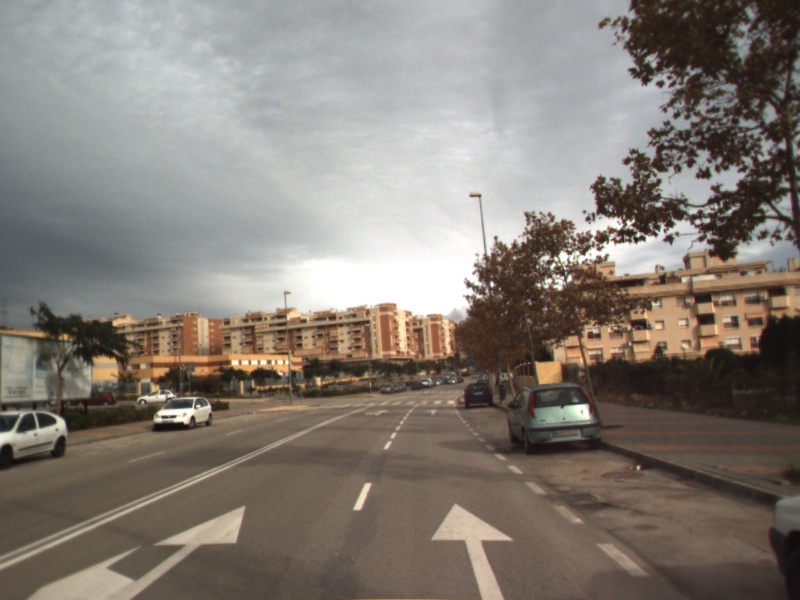STRAIGHT: (427, 499, 518, 600), (424, 407, 442, 417)
STRAIGHT_LEFT: (22, 502, 248, 600), (363, 408, 391, 418)
